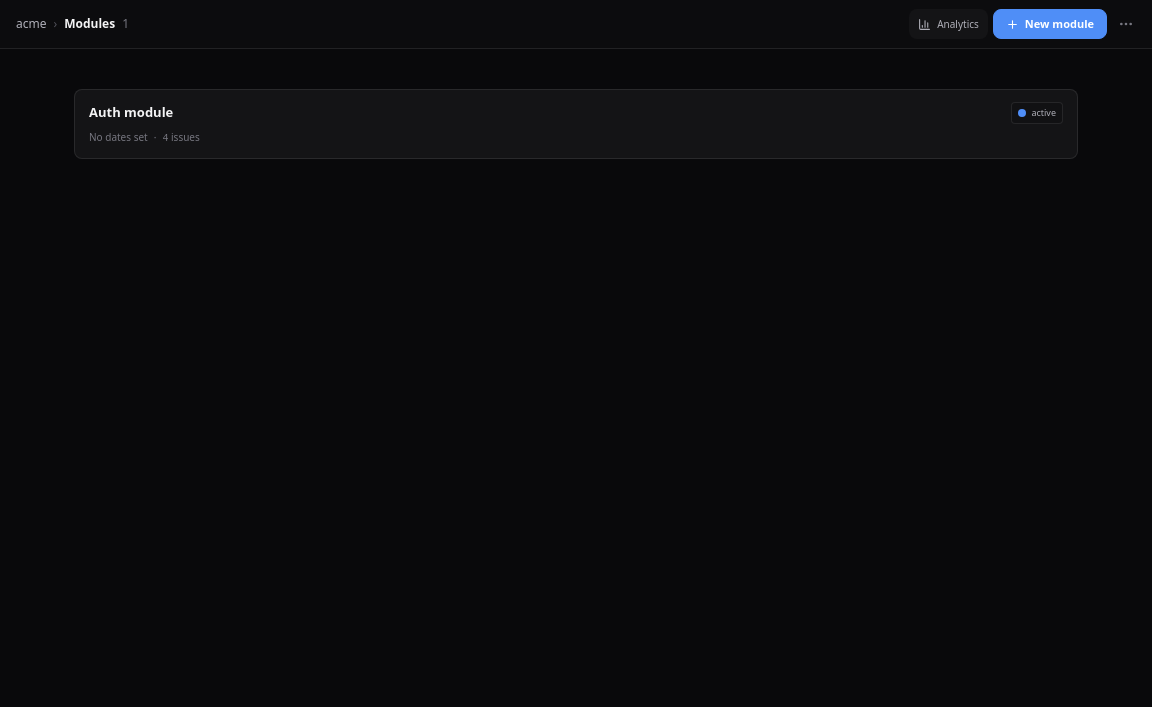
Test: module detail PQL mode (C95T2) › default mode shows the full membership list and progress counts
Click the button with aria-label "Open module Auth module" at (131, 112), box x1=74 y1=89 x2=1078 y2=159
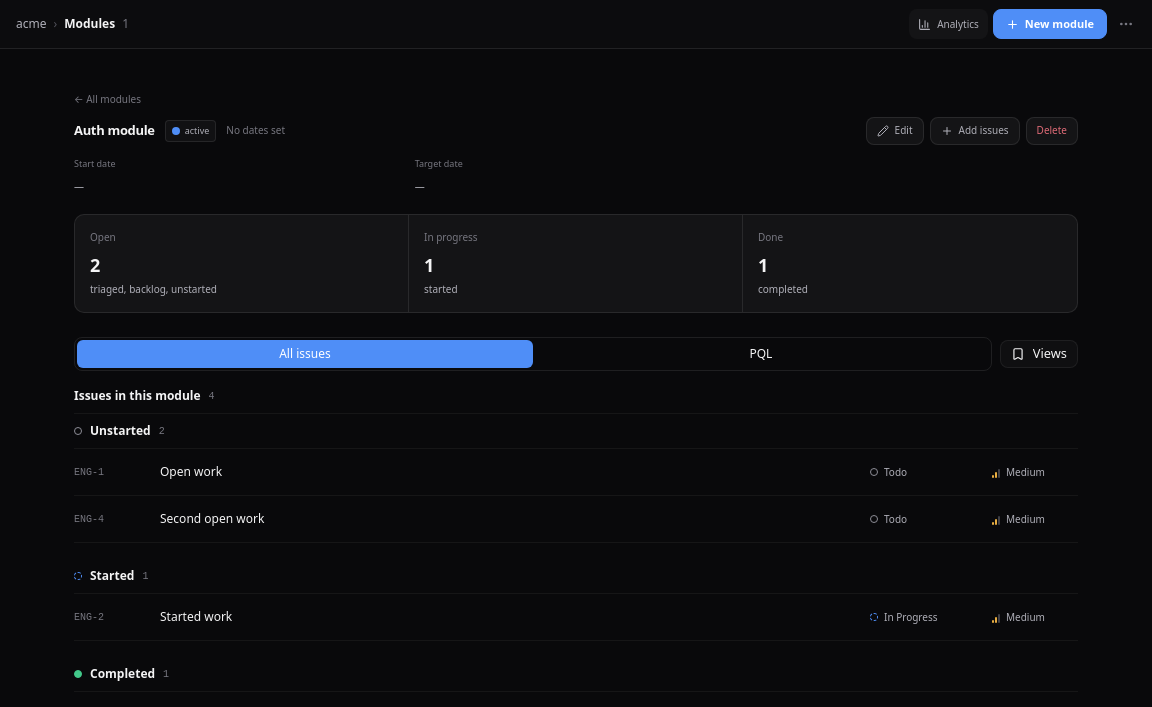
expect the heading "Issues in this module" is shown: met, box x1=74 y1=387 x2=201 y2=405
expect the text "Open work" is shown: met, box x1=160 y1=463 x2=222 y2=480
expect the text "Started work" is shown: met, box x1=160 y1=608 x2=232 y2=625
